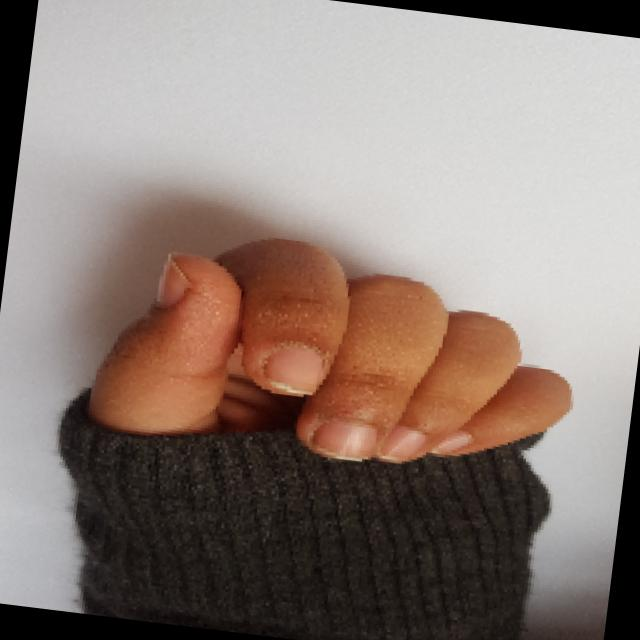Nail: (264, 341, 324, 393), (313, 419, 376, 460), (155, 253, 190, 306), (378, 425, 425, 461), (430, 429, 470, 454)
